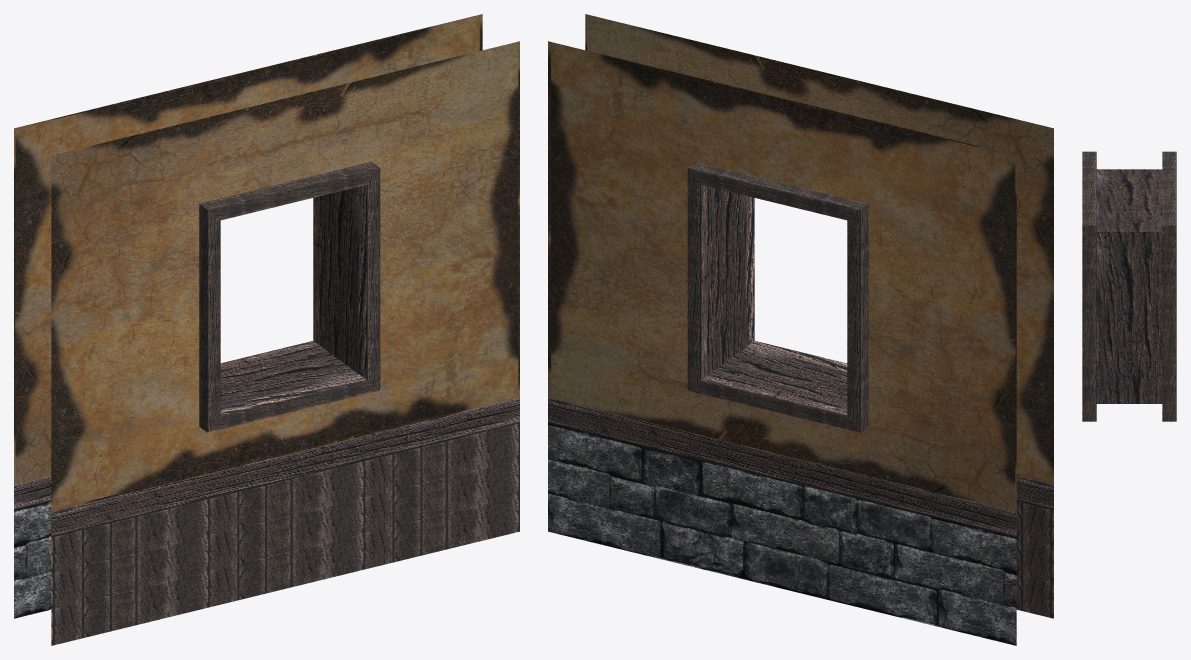
The model's file is Part 1 medival house.FBX.
The picture shows the model from 3 angles, left to right: view 1: azimuth 30°, elevation 25°; view 2: azimuth 150°, elevation 25°; view 3: azimuth 270°, elevation 25°; orthographic projection. The views are drawn at different scales.
Visible parts, largest first — view 1: Zid prozor 1; view 2: Zid prozor 1; view 3: Zid prozor 1.
Boxes of the visible parts, left/top/right/bottom form: Zid prozor 1: left=14, top=14, right=519, bottom=645; Zid prozor 1: left=548, top=14, right=1053, bottom=645; Zid prozor 1: left=1082, top=151, right=1176, bottom=421.
Size of the model in its own units: 236 by 236 by 46.94.
Materials: 3 (3 with a texture image).
